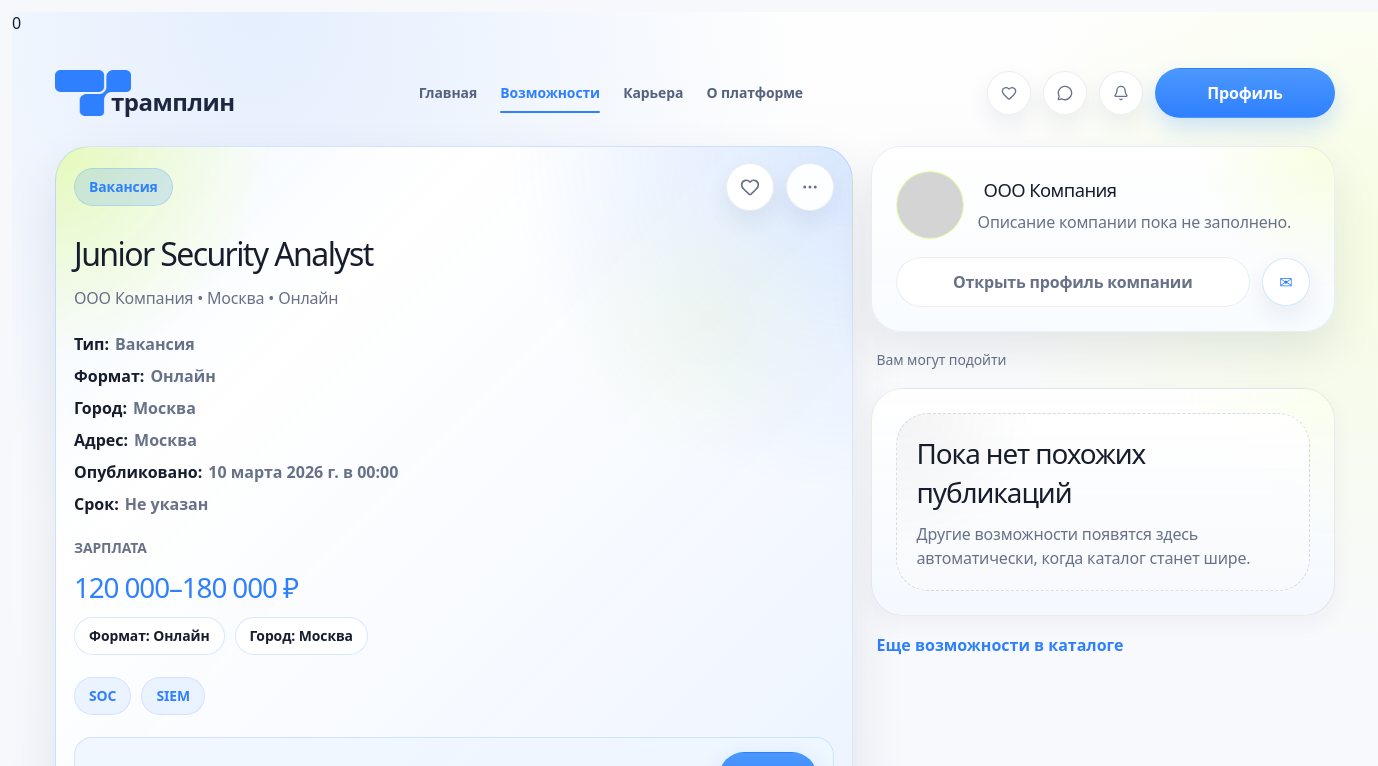
OpportunityDetailCardApp › shows login prompt instead of apply and share actions for guests
Click the button named "Ещё действия" at (810, 187), box [786,163,834,211]
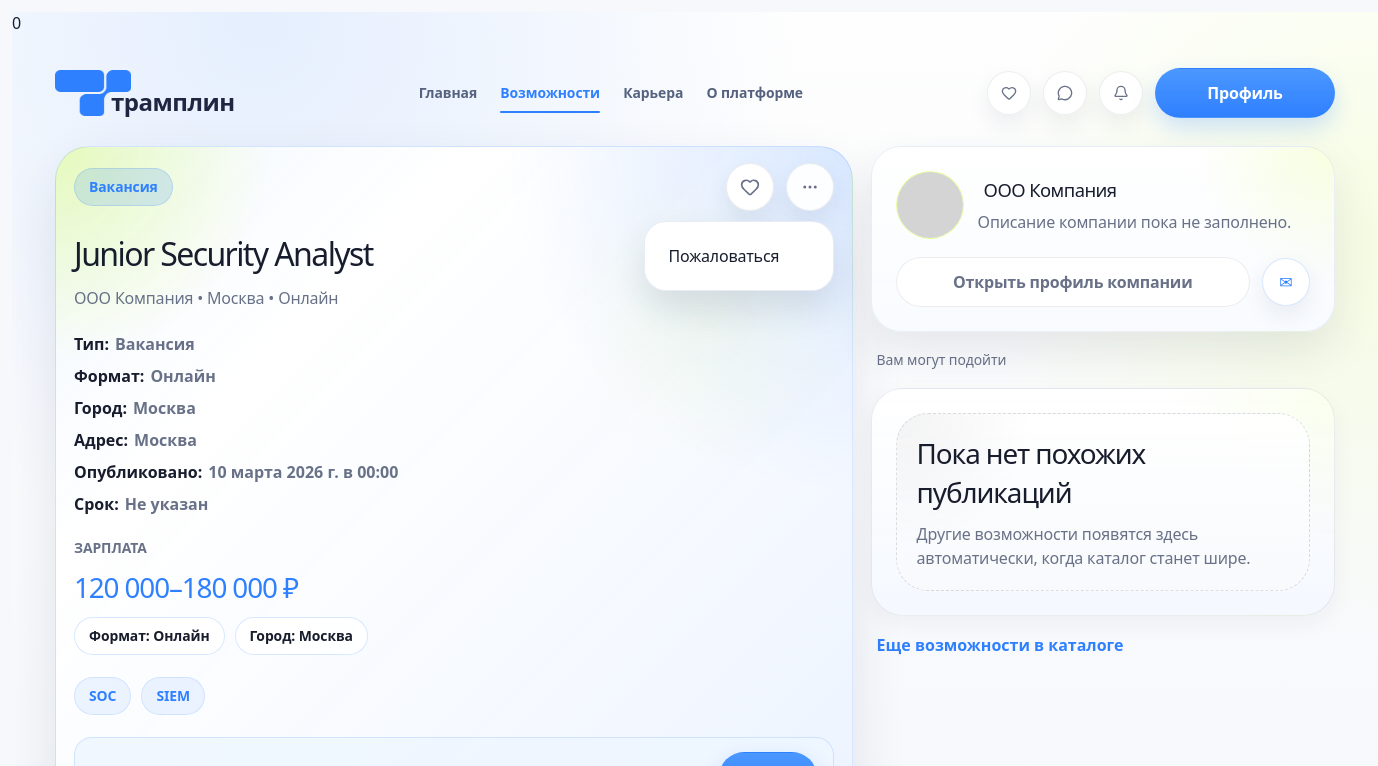
Check: the number of menu items is 1, box [655,232,823,280]
